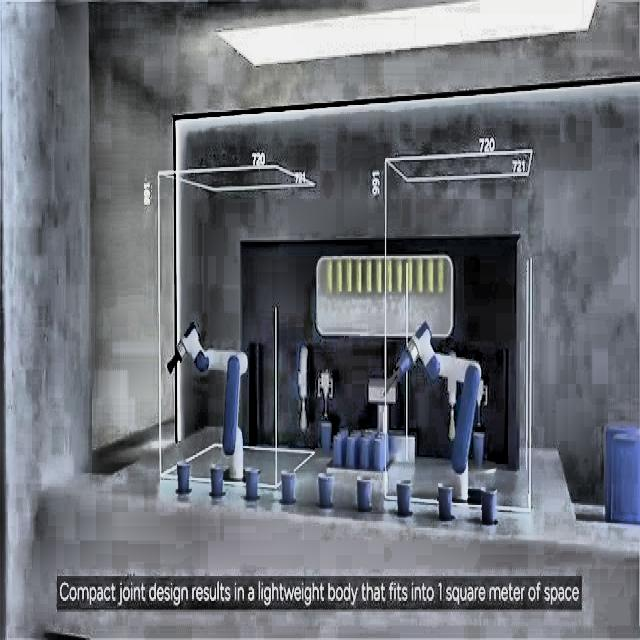robot: (383, 320, 485, 473), (166, 320, 248, 480)
